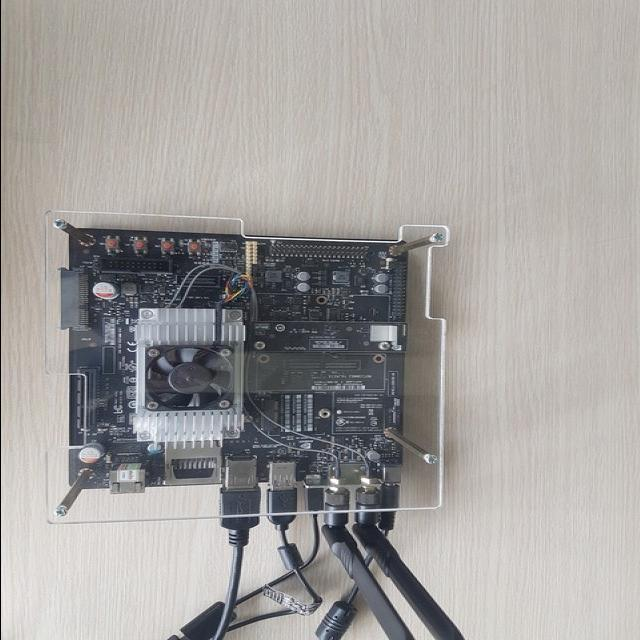Jetson TX2: (56, 220, 413, 640)
